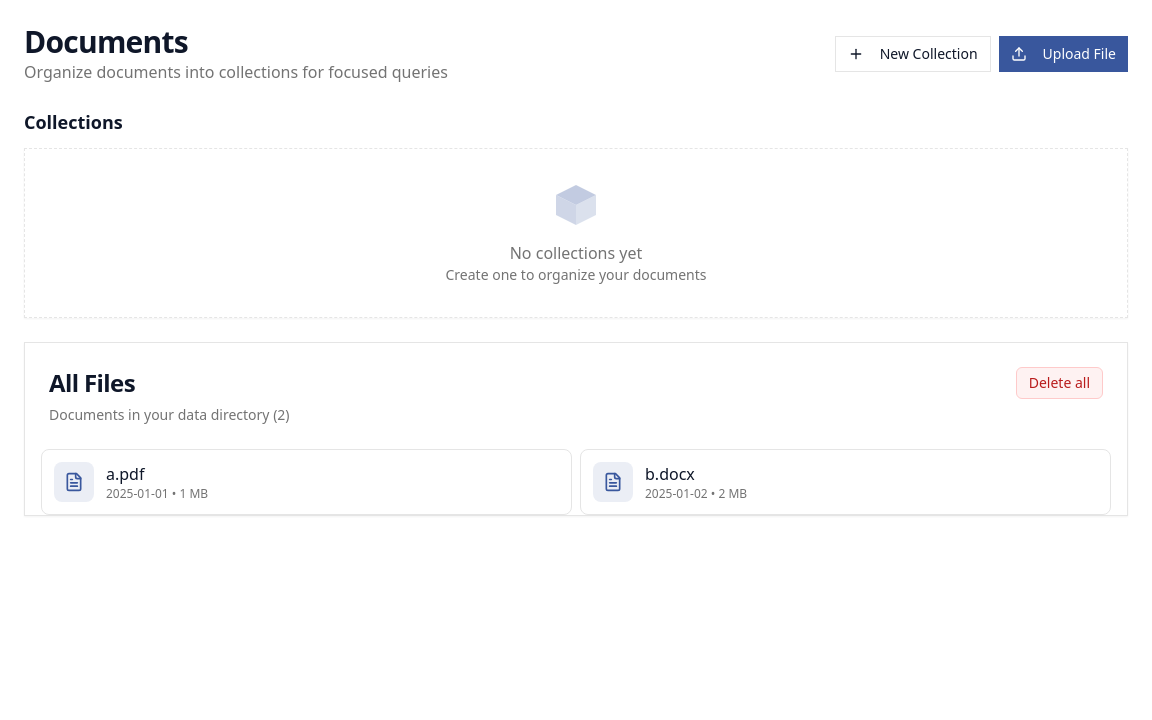
it: UploadPage layout › shows Delete all button and calls API when confirmed and exposes delete job status
Later steps or results of the test are not shown.
Click the button "Delete all" at (1059, 383), box [1016,367,1103,399]
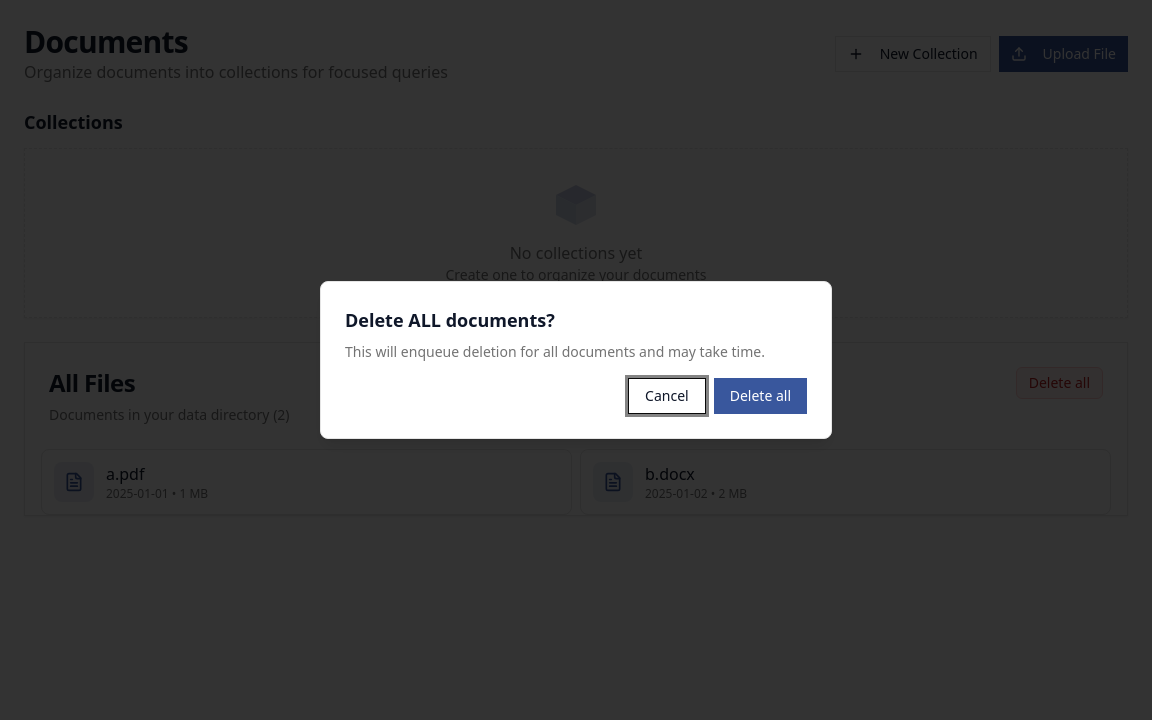
Check: the button "Delete all" is shown, box [714,378,807,414]
